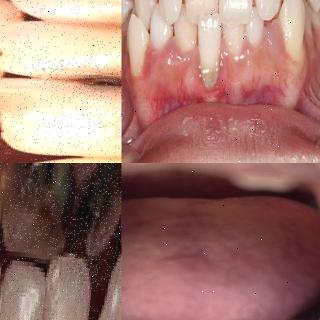calculus: (202, 66, 218, 89)
cavities: (12, 163, 80, 237), (78, 163, 122, 237), (76, 64, 122, 118)
maligned: (195, 11, 222, 83), (280, 0, 305, 74), (126, 14, 144, 72), (187, 0, 219, 29), (130, 0, 154, 33), (245, 8, 263, 46), (258, 0, 279, 22), (284, 0, 308, 15)
